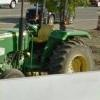Tractor: (6, 15, 100, 88)
